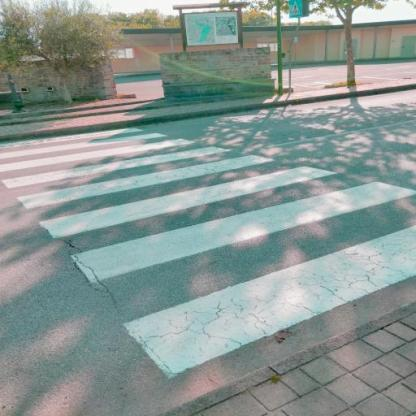crosswalk: (14, 152, 341, 242)
